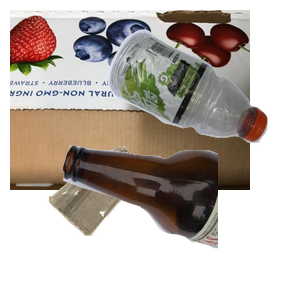cardboard: (10, 10, 250, 190)
glass: (60, 142, 300, 300)
plastic: (105, 27, 300, 162)
trash: (46, 144, 188, 300)
